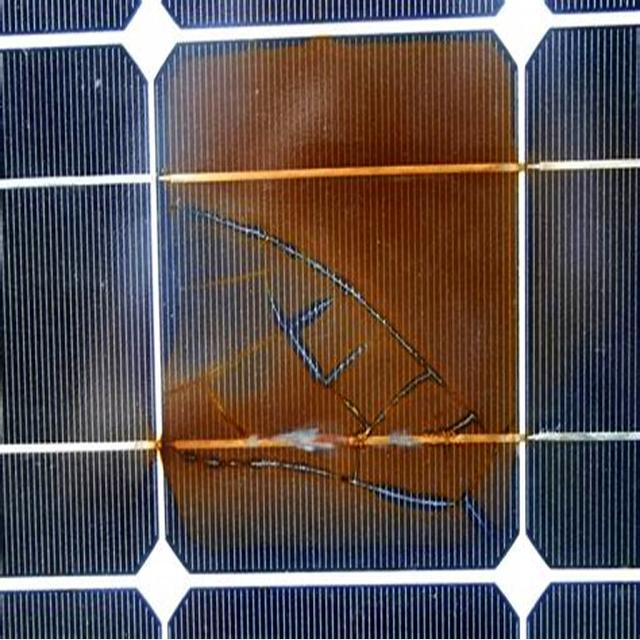shadow: (151, 46, 520, 547)
